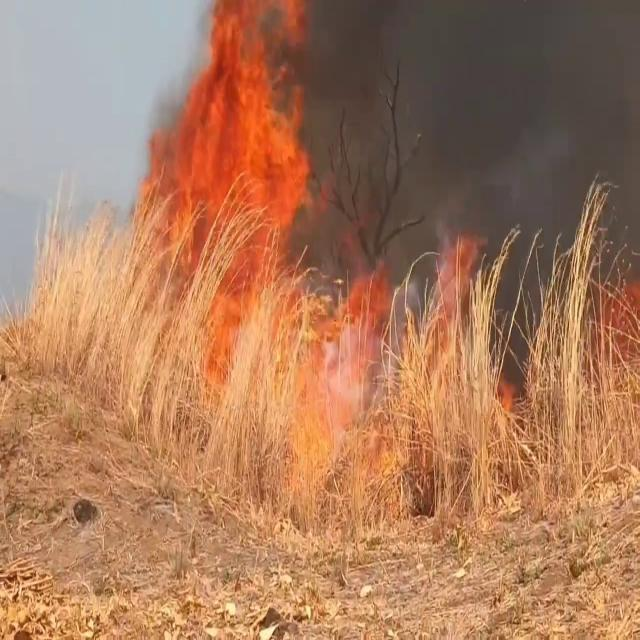Fire: (142, 2, 324, 330)
Smoke: (300, 0, 640, 282)
